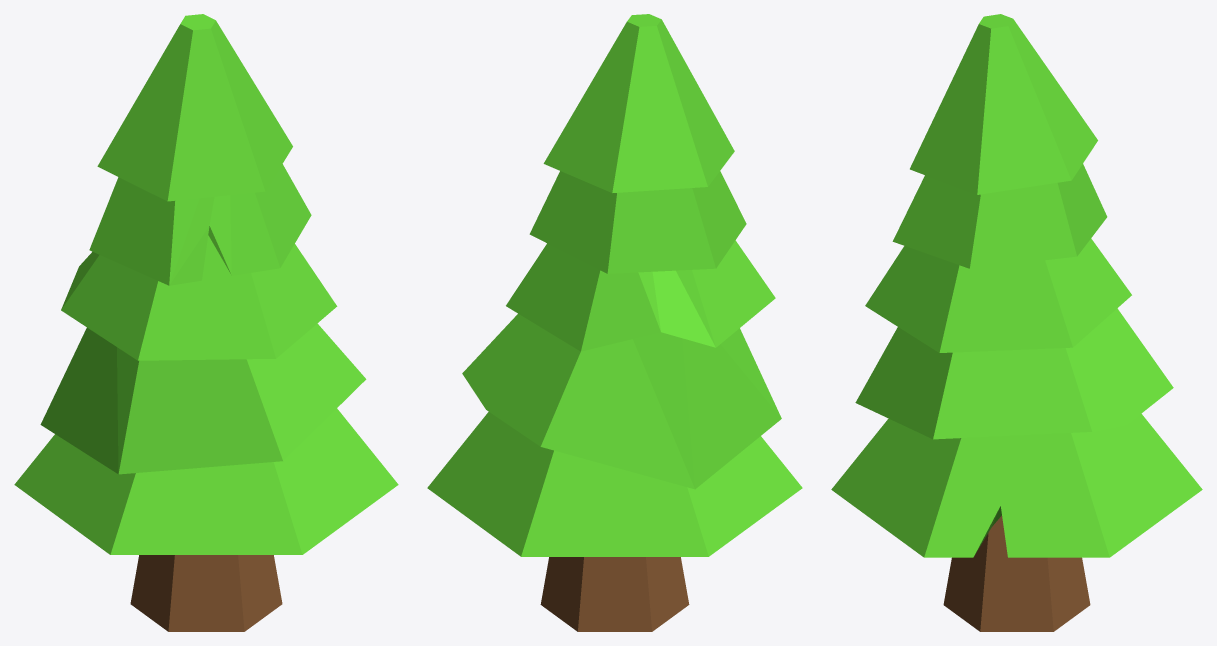
Rendered from tree_model2.gltf.
3 views of the same model, side by side, from view 1: azimuth 30°, elevation 25°; view 2: azimuth 150°, elevation 25°; view 3: azimuth 270°, elevation 25° (orthographic). The views are drawn at different scales.
Size of the model in its own units: 1.26 by 2.48 by 1.45.
